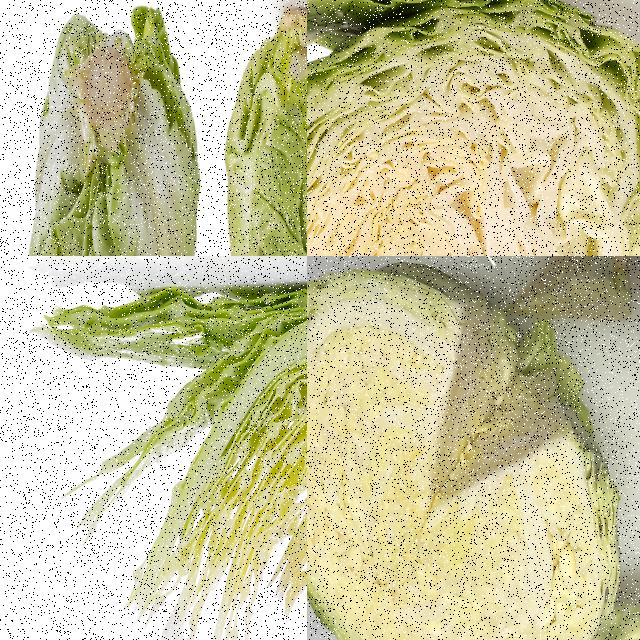cabbage: (307, 267, 624, 639), (27, 276, 306, 639), (307, 0, 639, 255), (24, 1, 202, 255), (221, 5, 306, 255)
